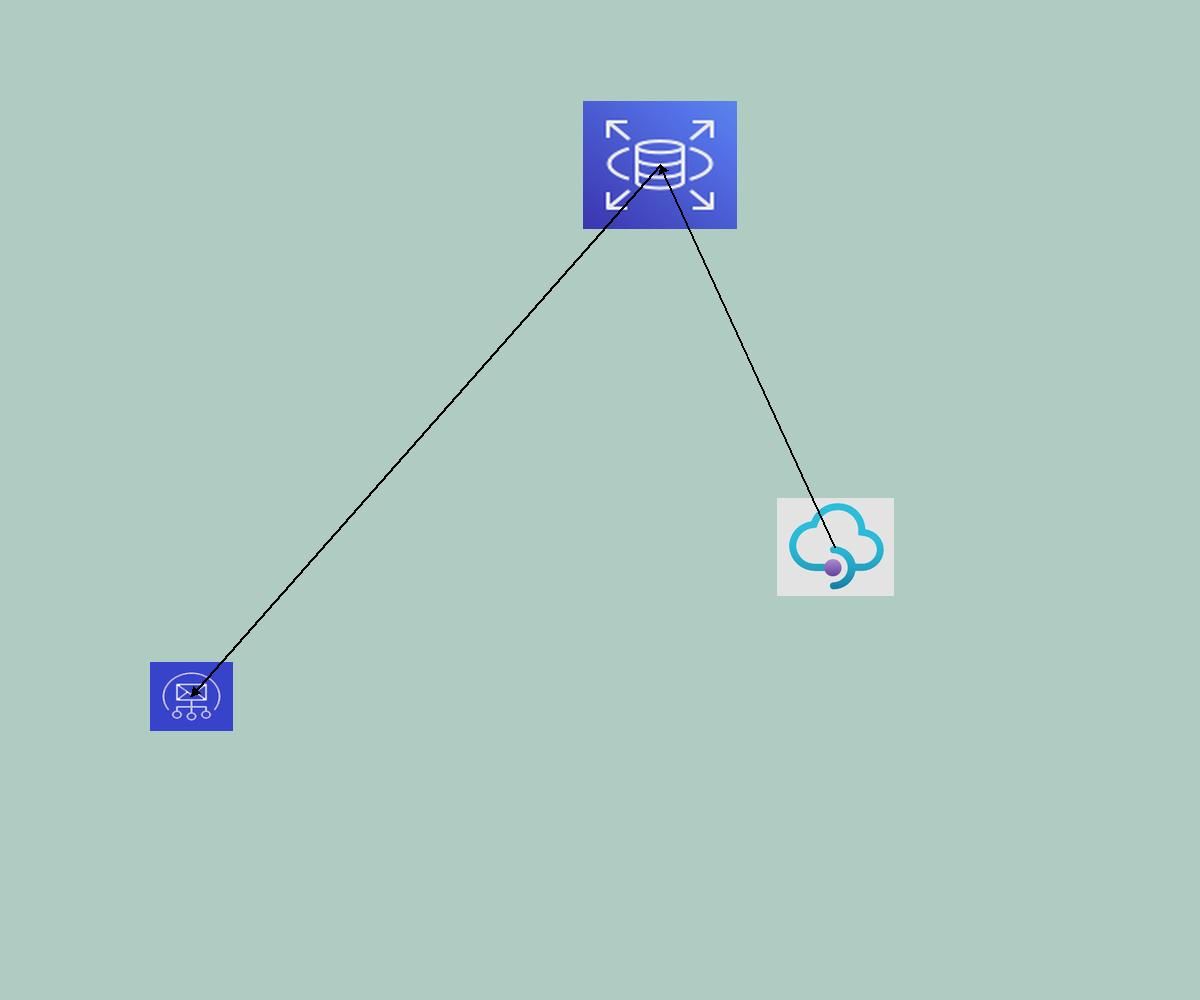AWS-RDS: (583, 101, 737, 229)
AWS-Simple-Email-Service: (150, 662, 233, 731)
Azure_api_gateway: (777, 498, 894, 596)
